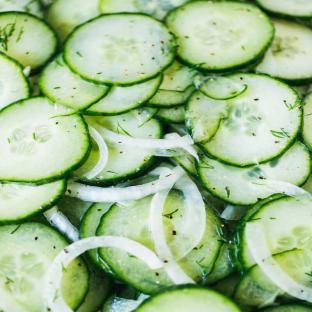Cucumber: (186, 74, 302, 166), (64, 14, 175, 86), (165, 0, 273, 72), (0, 98, 90, 184), (198, 142, 311, 205), (0, 223, 68, 311), (231, 194, 283, 272), (40, 54, 109, 112), (256, 19, 311, 84), (73, 142, 156, 185), (248, 197, 311, 253), (0, 12, 57, 71), (84, 75, 161, 115), (97, 196, 154, 250), (0, 180, 66, 224), (135, 285, 241, 311), (234, 265, 292, 307), (148, 61, 196, 108), (46, 0, 99, 42), (77, 261, 111, 311), (0, 53, 29, 108), (195, 76, 247, 99), (205, 243, 233, 284), (58, 196, 92, 228), (147, 86, 194, 108), (0, 0, 43, 17), (173, 155, 197, 177), (302, 93, 311, 150), (155, 106, 184, 123), (87, 249, 107, 270), (261, 303, 311, 311), (28, 75, 42, 97)
